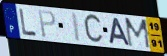A: (108, 17, 131, 47)
C: (82, 13, 104, 46)
I: (71, 11, 82, 43)
L: (18, 8, 38, 37)
M: (123, 17, 153, 50)
P: (38, 9, 58, 39)
